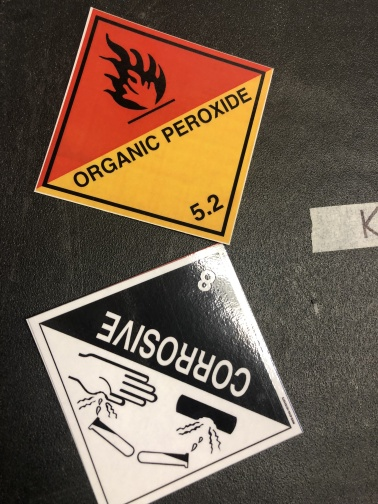Corrosive: (24, 244, 305, 503)
OrganicPeroxide: (34, 6, 274, 246)
